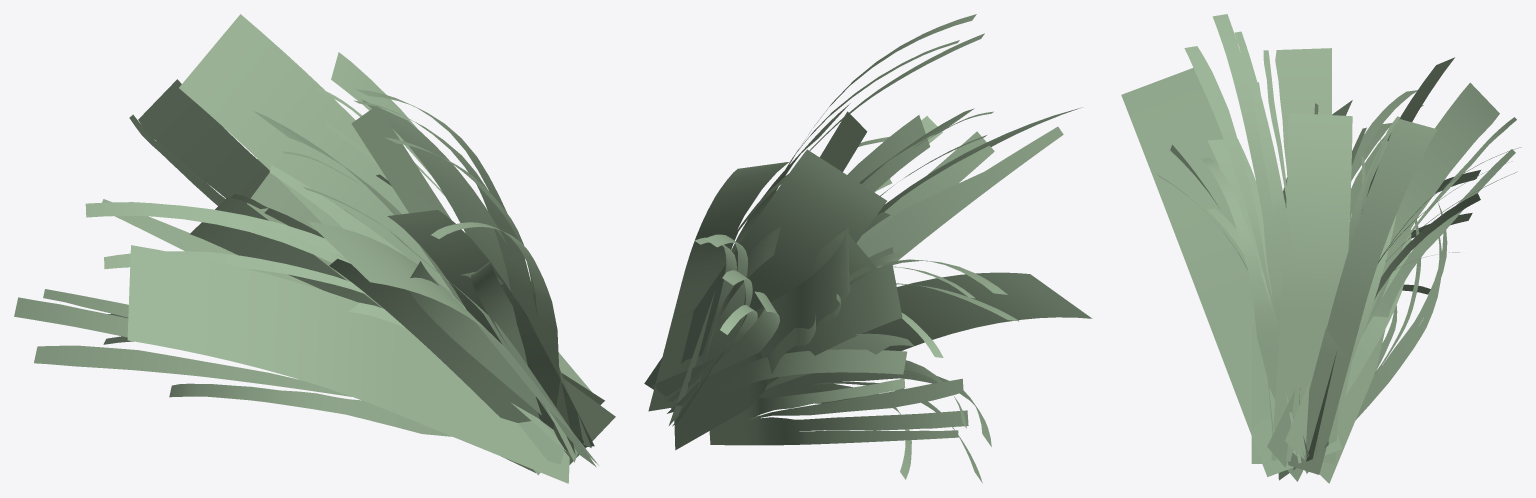
File: SM_ocean_eelGrass_04.fbx
The picture shows the model from 3 angles, left to right: view 1: azimuth 30°, elevation 25°; view 2: azimuth 150°, elevation 25°; view 3: azimuth 270°, elevation 25°; orthographic projection. The views are drawn at different scales.
Visible parts, largest first — view 1: SM_ocean_eelGrass_04_LOD0; view 2: SM_ocean_eelGrass_04_LOD0; view 3: SM_ocean_eelGrass_04_LOD0.
Boxes of the visible parts, x1,y1,x2,y2 form: SM_ocean_eelGrass_04_LOD0: (14, 14, 615, 483); SM_ocean_eelGrass_04_LOD0: (644, 14, 1092, 483); SM_ocean_eelGrass_04_LOD0: (1121, 14, 1521, 483).
Size of what is drawn, in the model's own units: 183 by 174 by 170.
